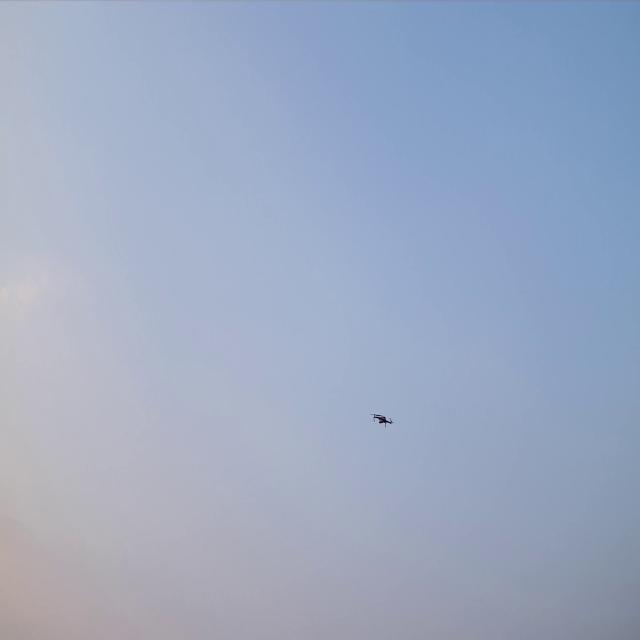UAV: (370, 412, 394, 429)
